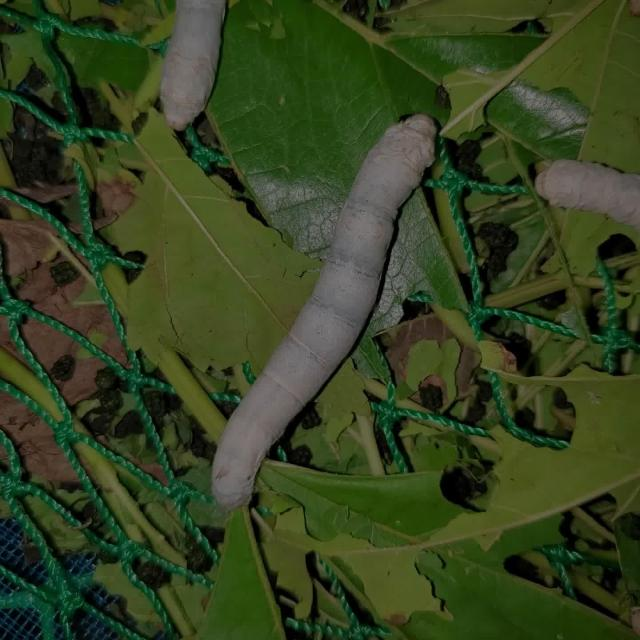Healthy: (202, 103, 446, 514)
